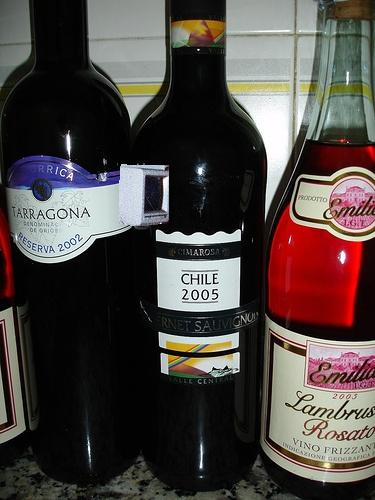tampered: (120, 165, 169, 226)
